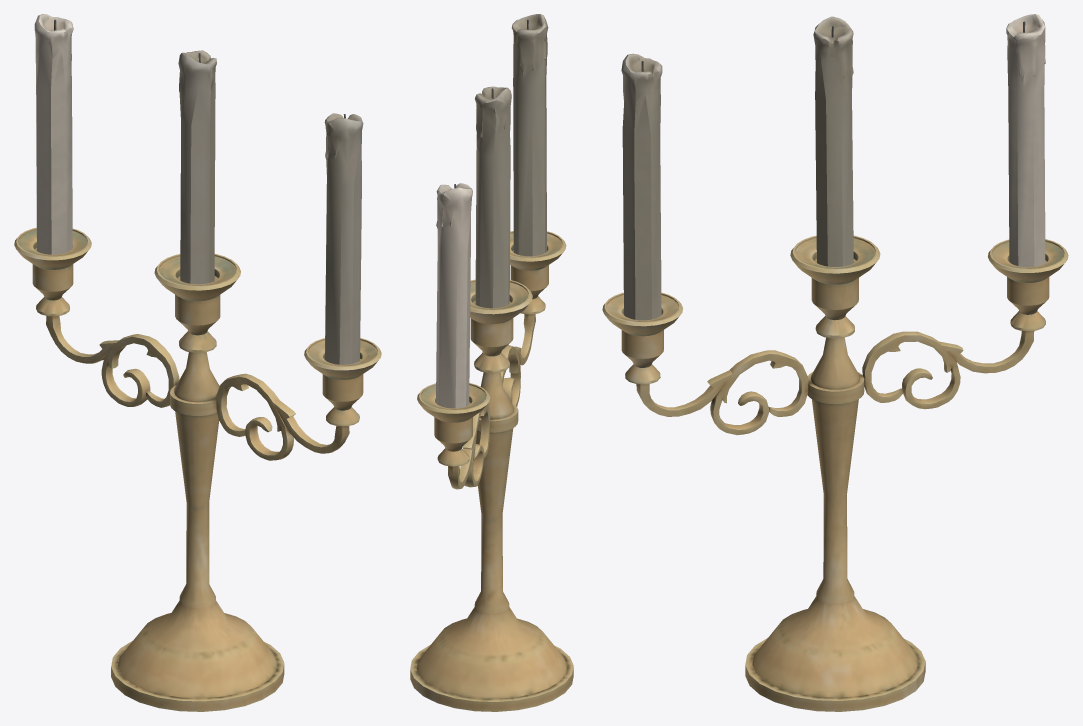
File: candlestick-branch-a.glb
3 views of the same model, side by side, from view 1: azimuth 30°, elevation 25°; view 2: azimuth 150°, elevation 25°; view 3: azimuth 270°, elevation 25° (orthographic). The views are drawn at different scales.
Parts seen in each view (by area): view 1: candlestick-branch-a; view 2: candlestick-branch-a; view 3: candlestick-branch-a.
Boxes of the visible parts, x1,y1,x2,y2 form: candlestick-branch-a: (14,14,381,711); candlestick-branch-a: (410,14,573,711); candlestick-branch-a: (602,14,1068,711).
Size of the model in its own units: 0.1154 by 0.4011 by 0.2605.
1 material, 1 textured.
